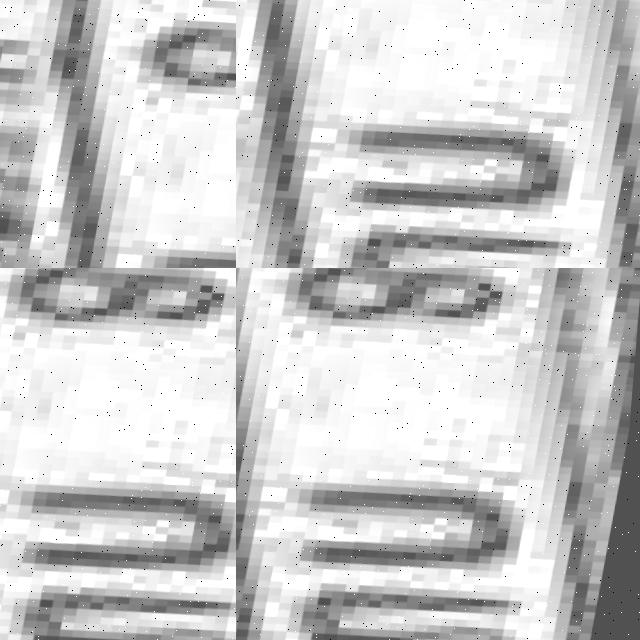license-plate: (236, 268, 640, 640), (0, 268, 236, 640), (0, 0, 236, 268)
